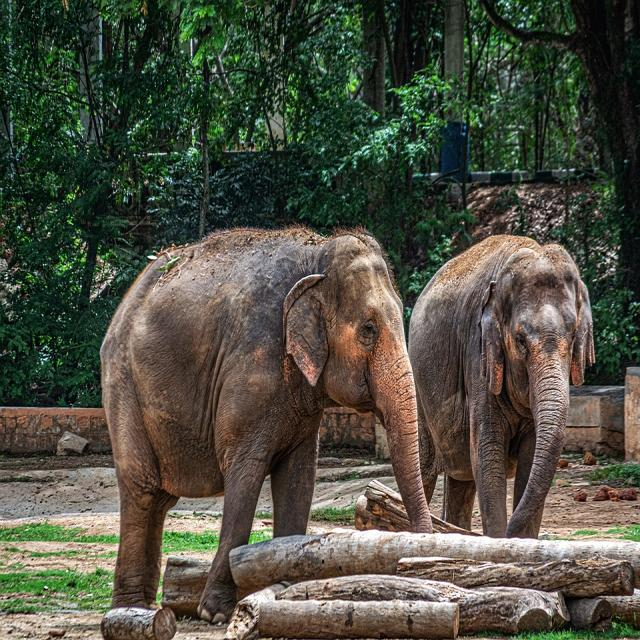Elephant: (91, 209, 418, 617), (402, 232, 601, 546)
